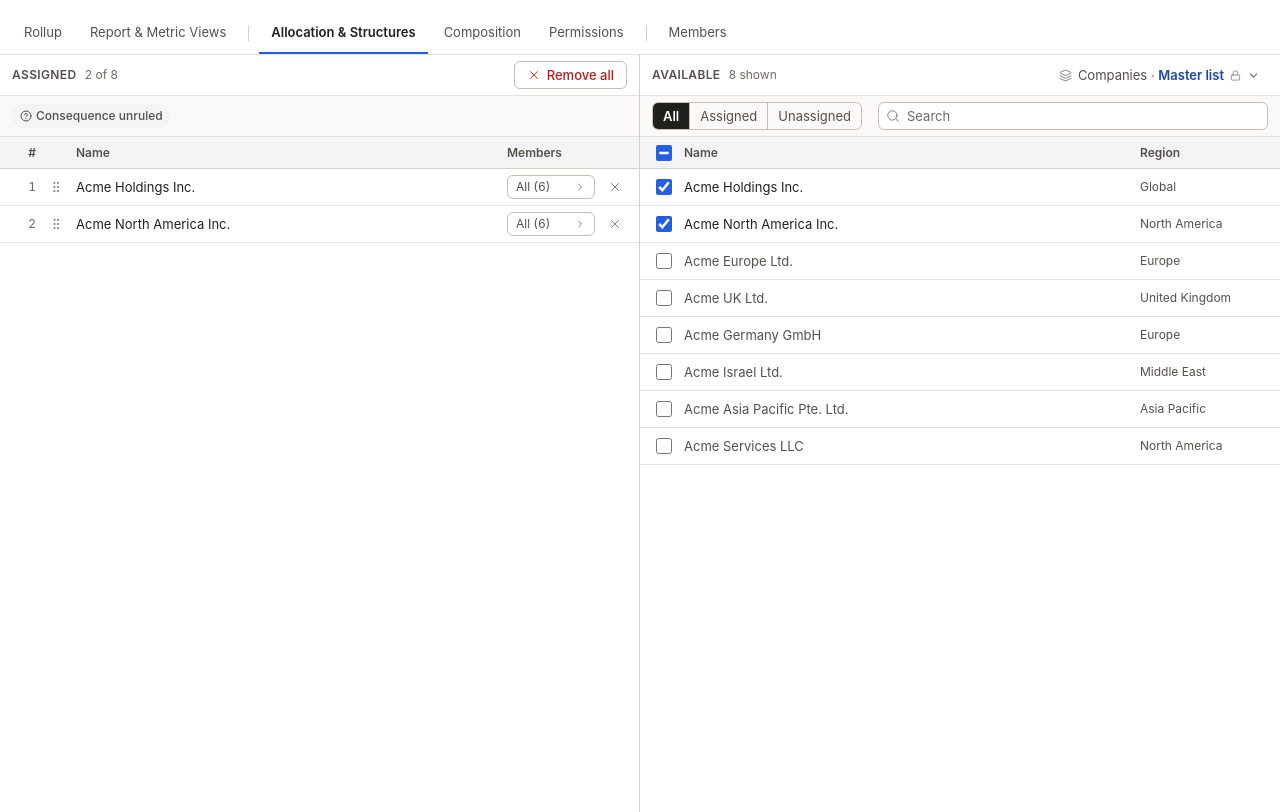
AssignUnassignSurface › keeps focus in the qty input while typing (AttrCell remount regression)
Click the tab "Composition" at (482, 33), box 432,12 -> 533,54
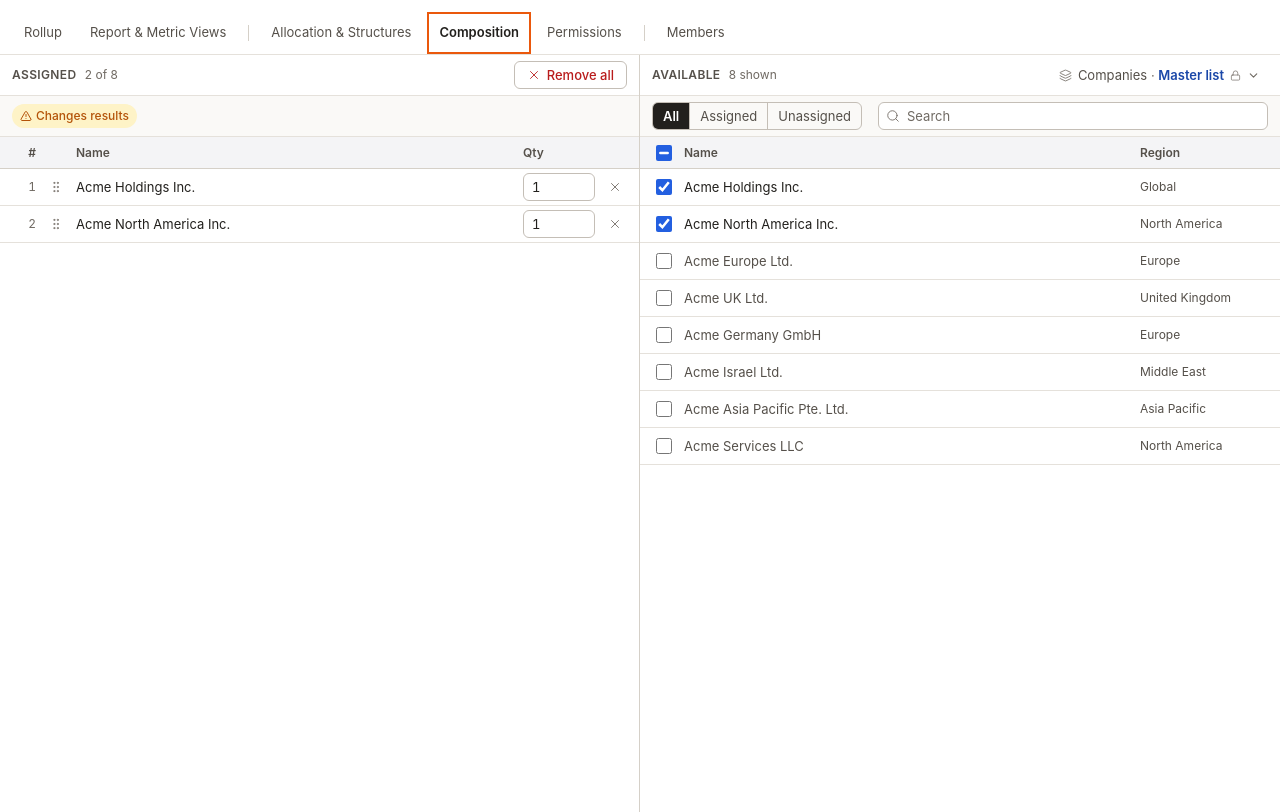
Type "25" into the field named "Qty for Acme Holdings Inc." at (559, 187), box 523,173 -> 595,201
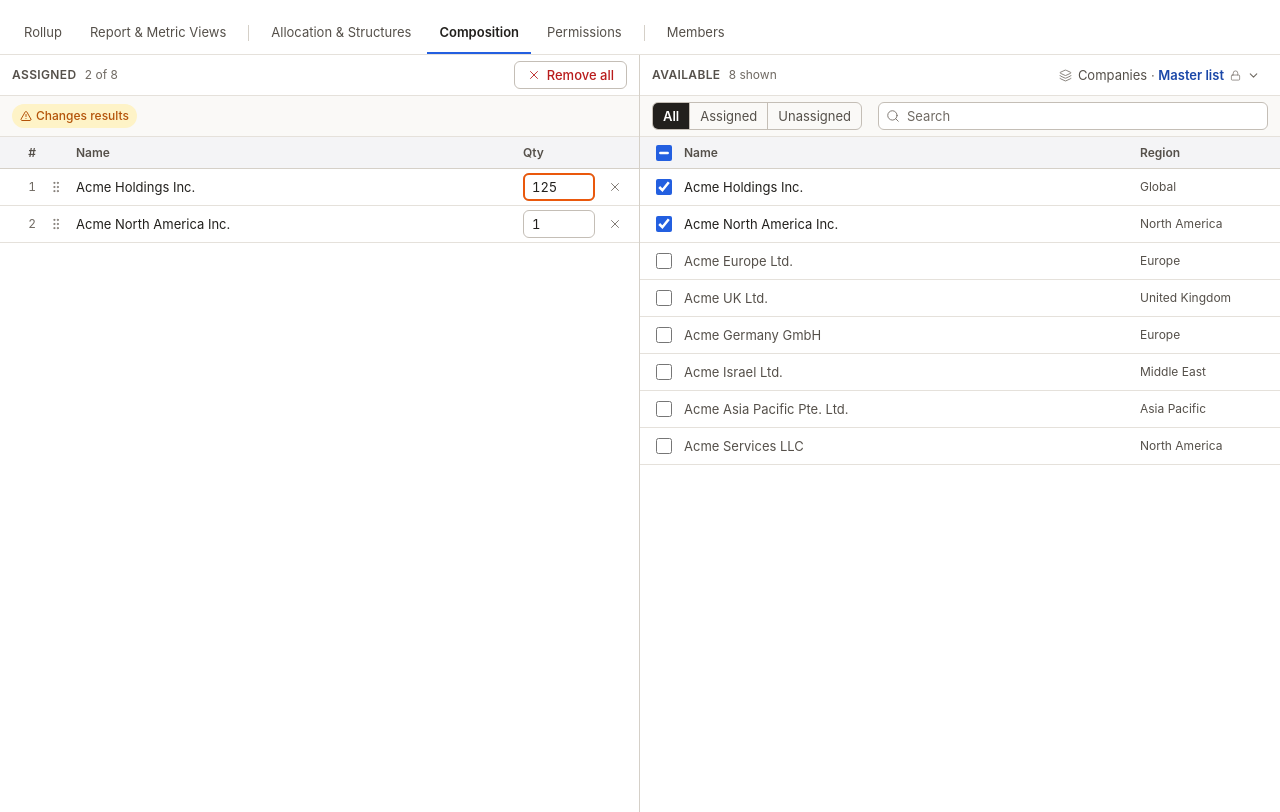
Now the field named "Qty for Acme Holdings Inc." holds "125", box 523,173 -> 595,201
